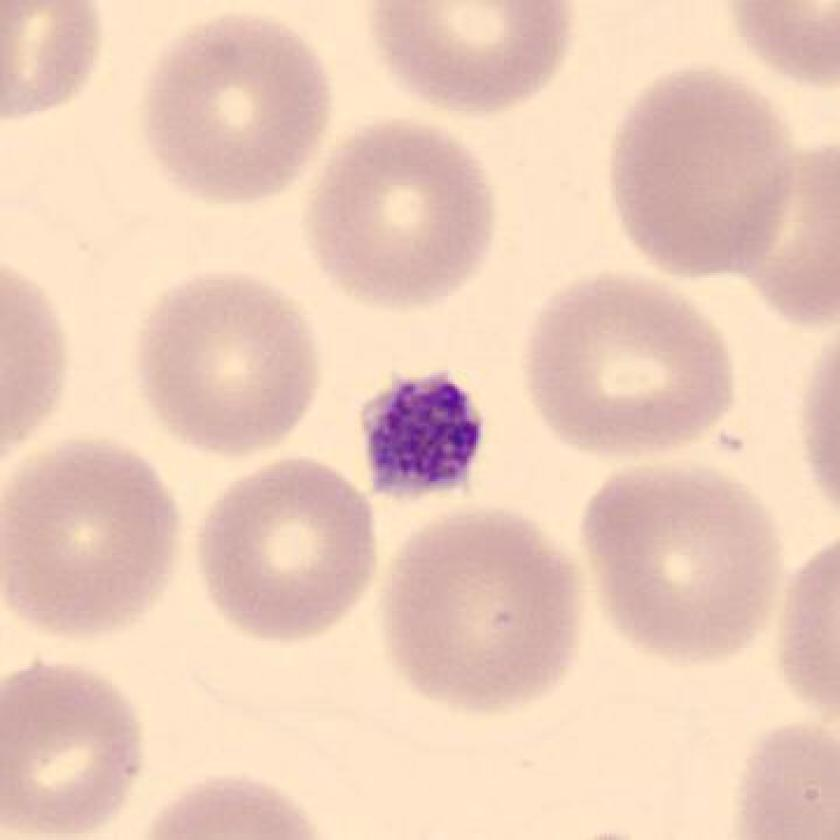platelets: (353, 367, 489, 508)
